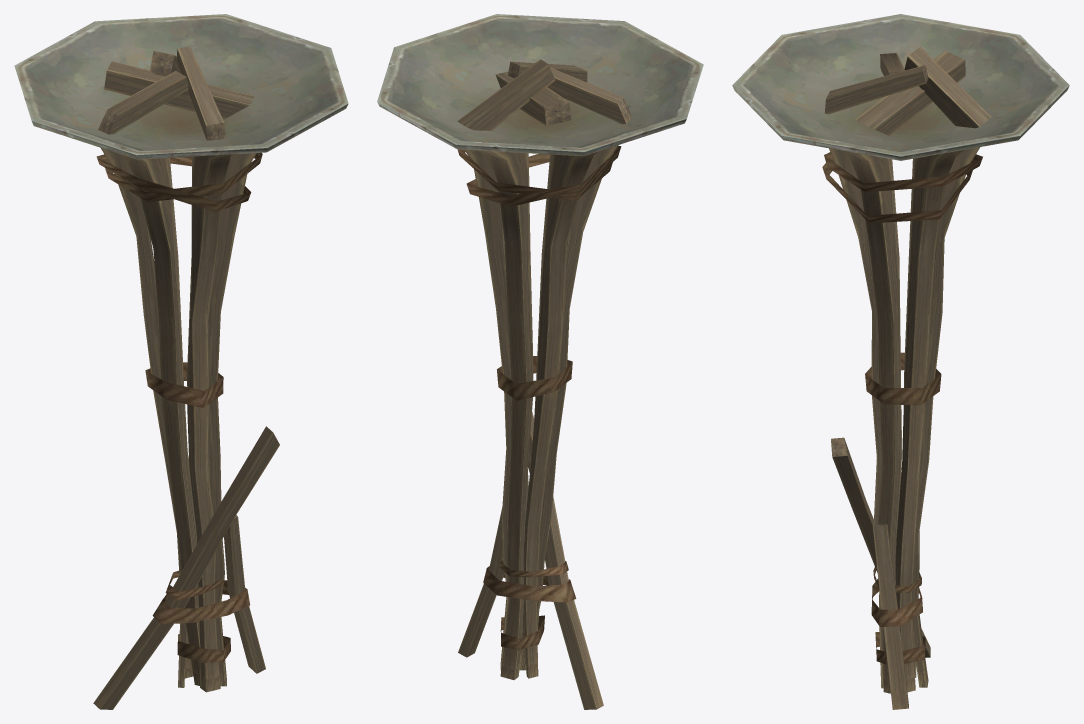
The model's file is Homeworld_Exterior_Xm_Decoration_Prop_Smhuopen_01_Lod0.fbx.
3 renders of one model, left to right at view 1: azimuth 30°, elevation 25°; view 2: azimuth 150°, elevation 25°; view 3: azimuth 270°, elevation 25°, orthographic. The views are drawn at different scales.
Visible parts, largest first — view 1: Area_Xm_Prop_CWSM_Smhuopen_02_Lod0; view 2: Area_Xm_Prop_CWSM_Smhuopen_02_Lod0; view 3: Area_Xm_Prop_CWSM_Smhuopen_02_Lod0.
Part boxes in pixels (box(x1,y1,x2,y2)): Area_Xm_Prop_CWSM_Smhuopen_02_Lod0: box(14, 14, 348, 709); Area_Xm_Prop_CWSM_Smhuopen_02_Lod0: box(377, 14, 703, 709); Area_Xm_Prop_CWSM_Smhuopen_02_Lod0: box(732, 14, 1069, 709).
Size of the model in its own units: 0.9462 by 1.95 by 0.9462.
Materials: 1 (1 with a texture image).
